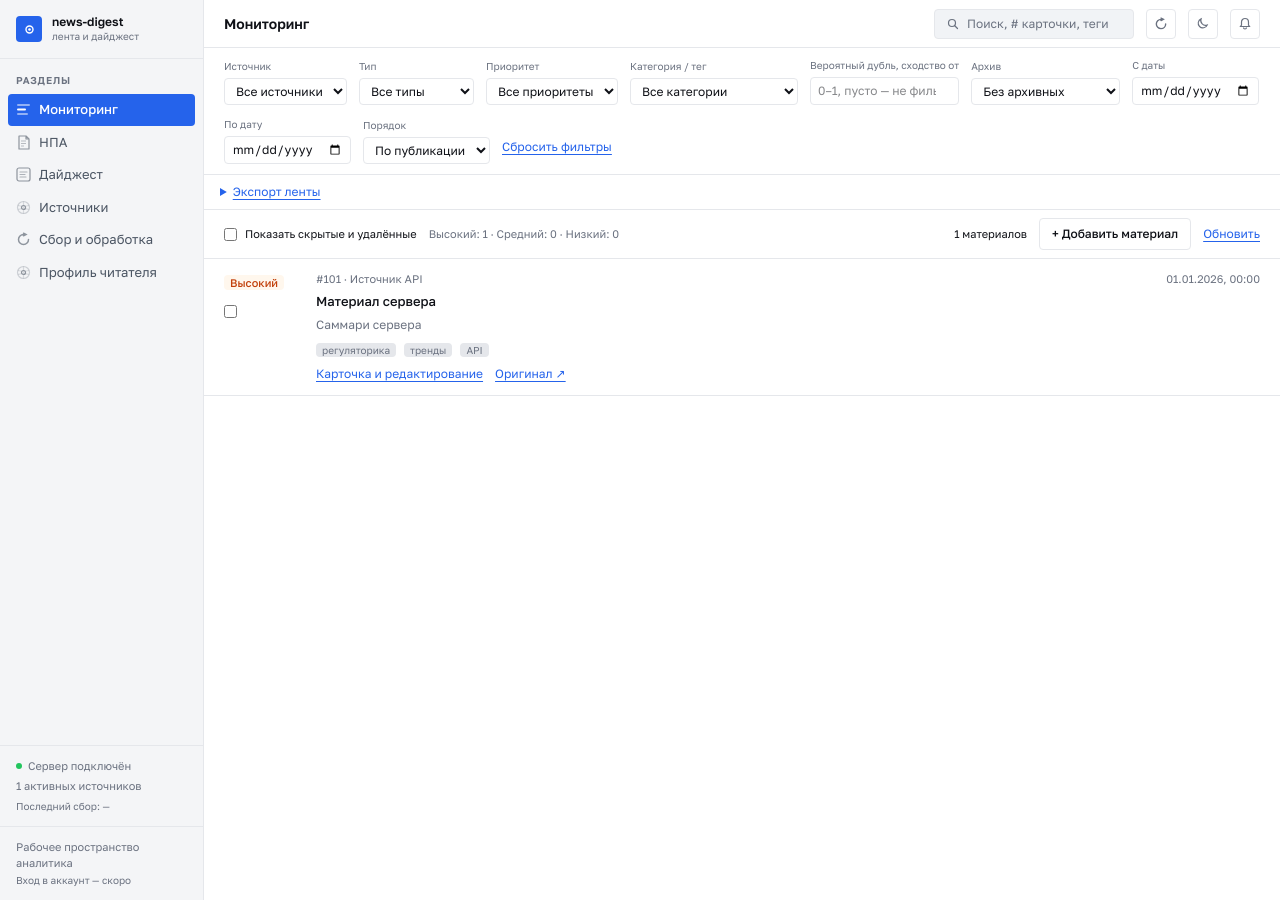
Scenario: material CRUD, notes, history and originals › does not send a PATCH for unchanged material fields
Click the button "Карточка и редактирование" at [400, 374], box [316, 364, 483, 382]
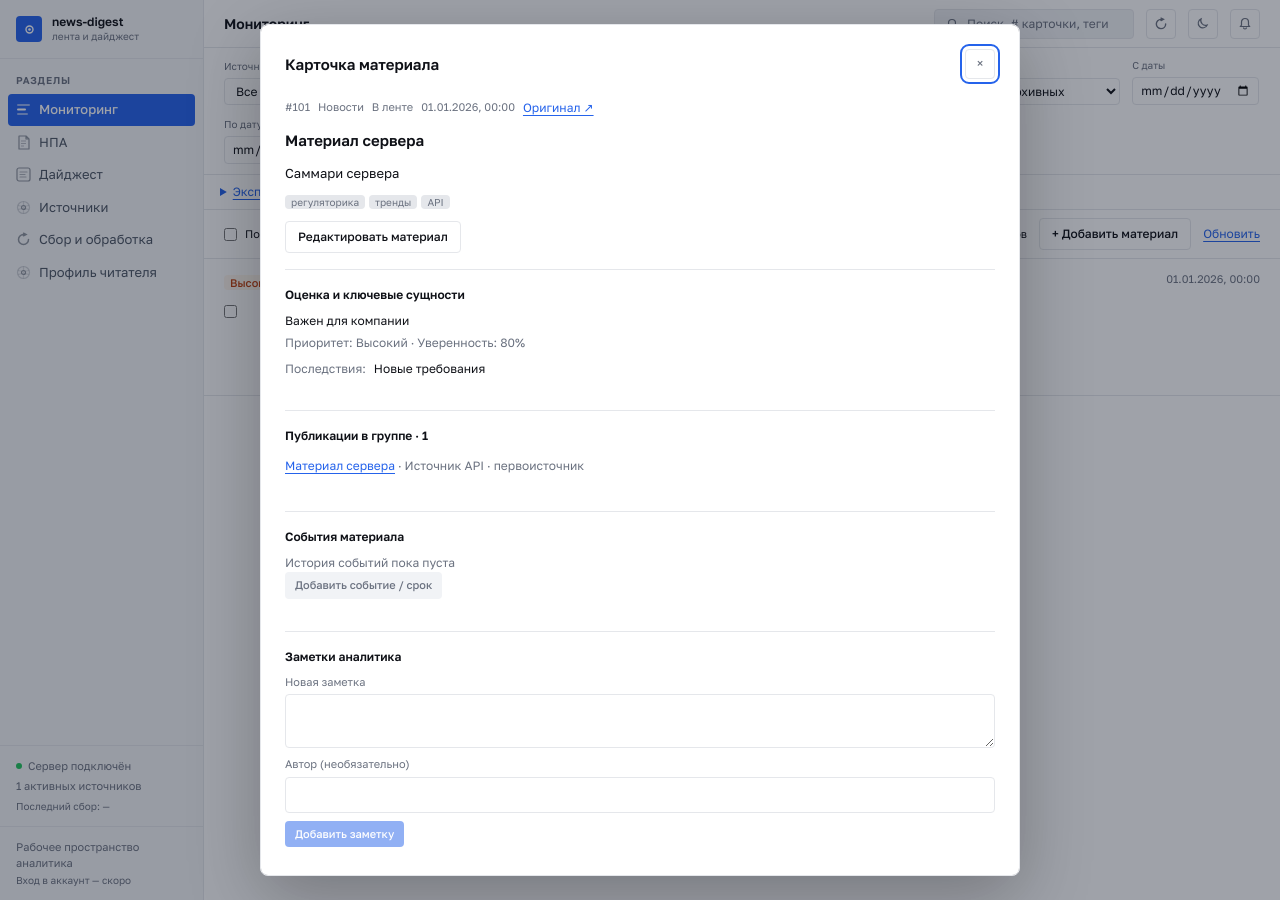
Click the button "Редактировать материал" at [373, 237], box [285, 221, 461, 253]
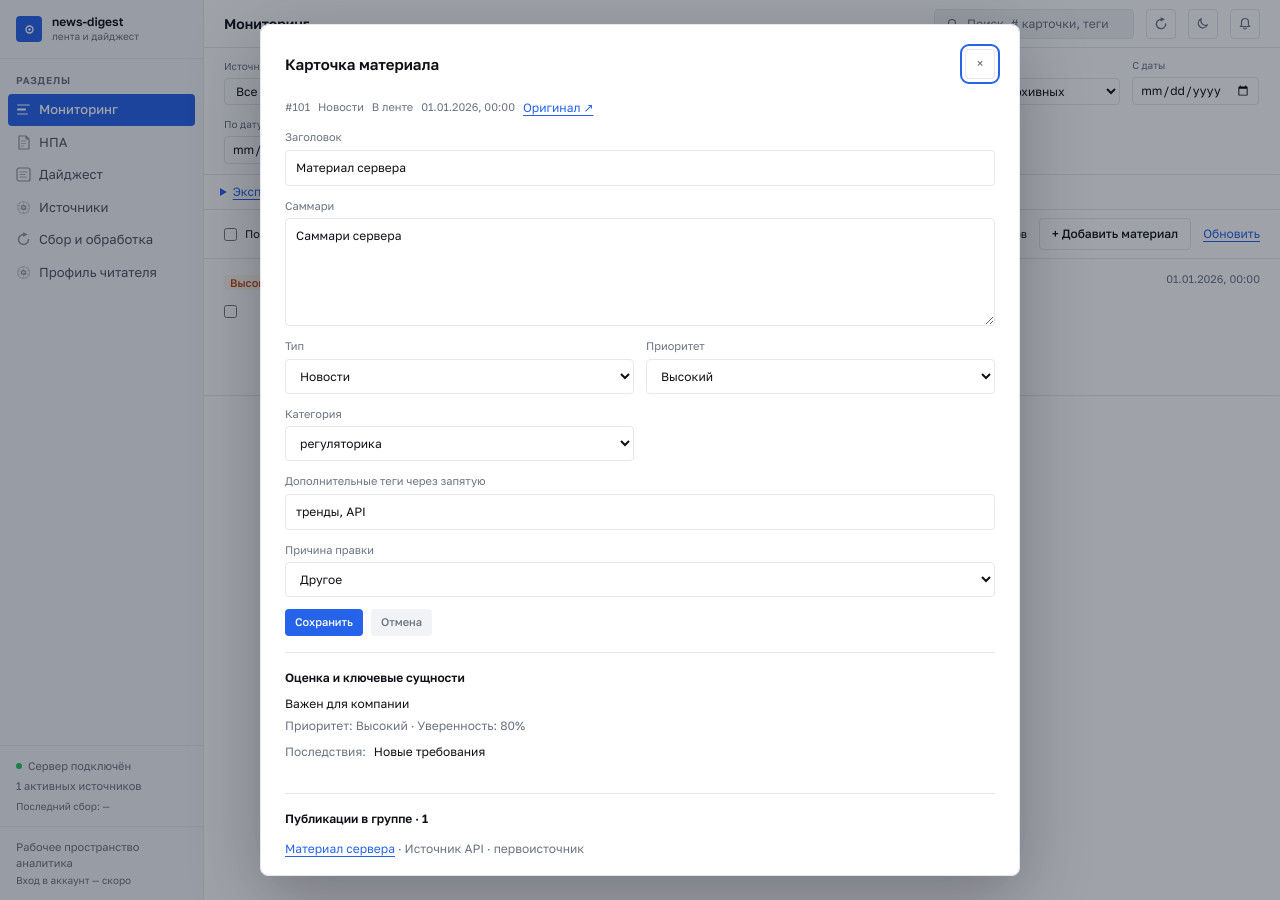
Submit the form, box [285, 129, 995, 636]
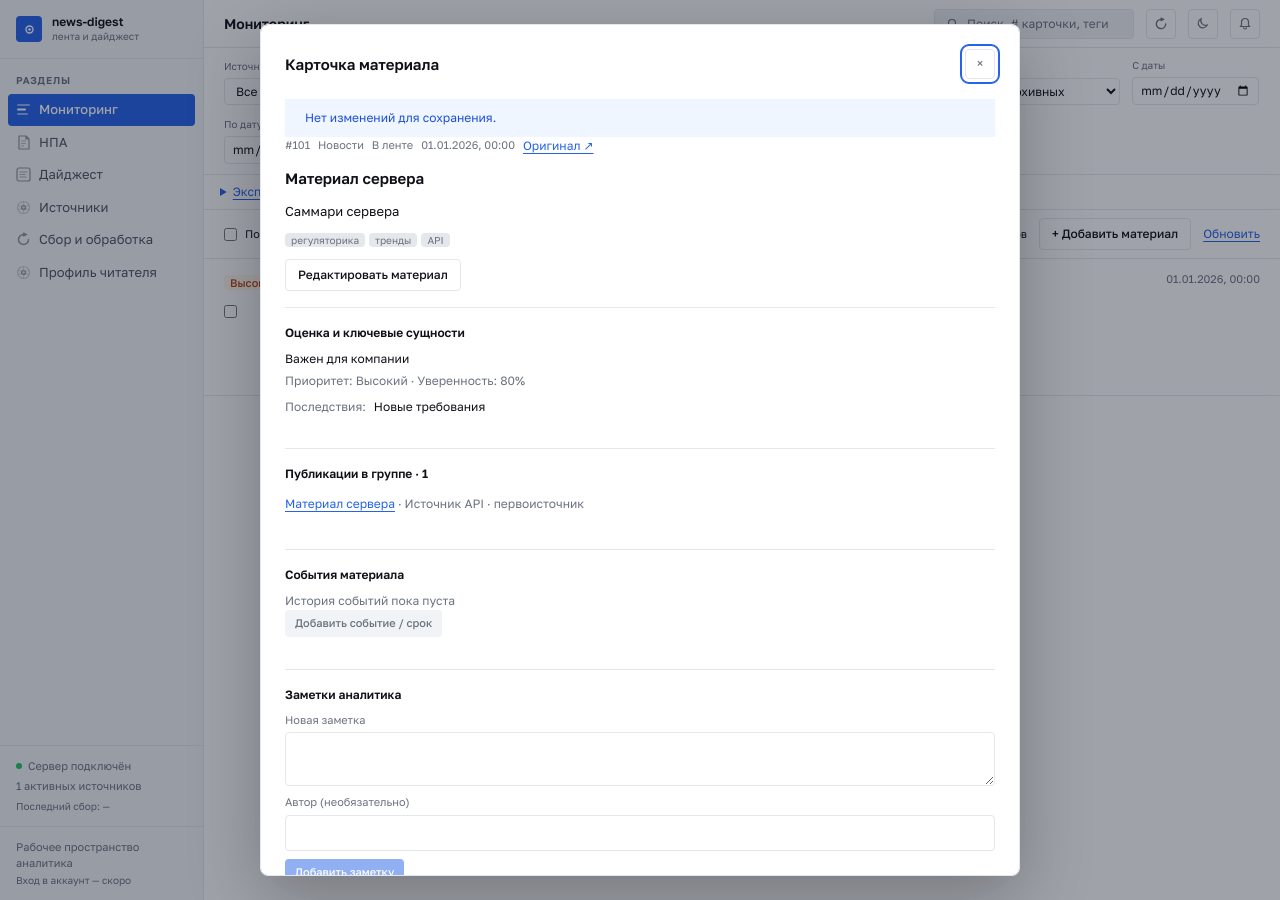
Result: the dialog shows "Нет изменений" at [305, 110, 496, 125]
